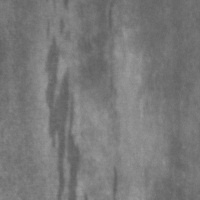inclusion: (40, 16, 93, 199), (80, 5, 121, 135), (107, 163, 122, 199)
